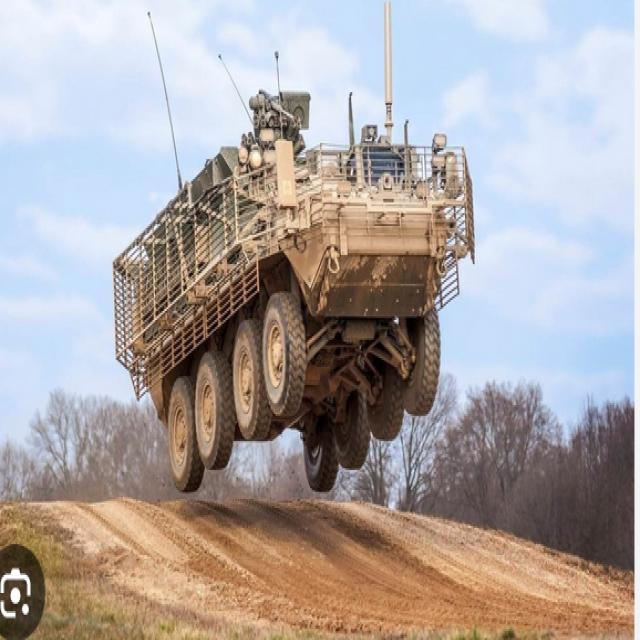MIL_APC: (108, 108, 478, 484)
